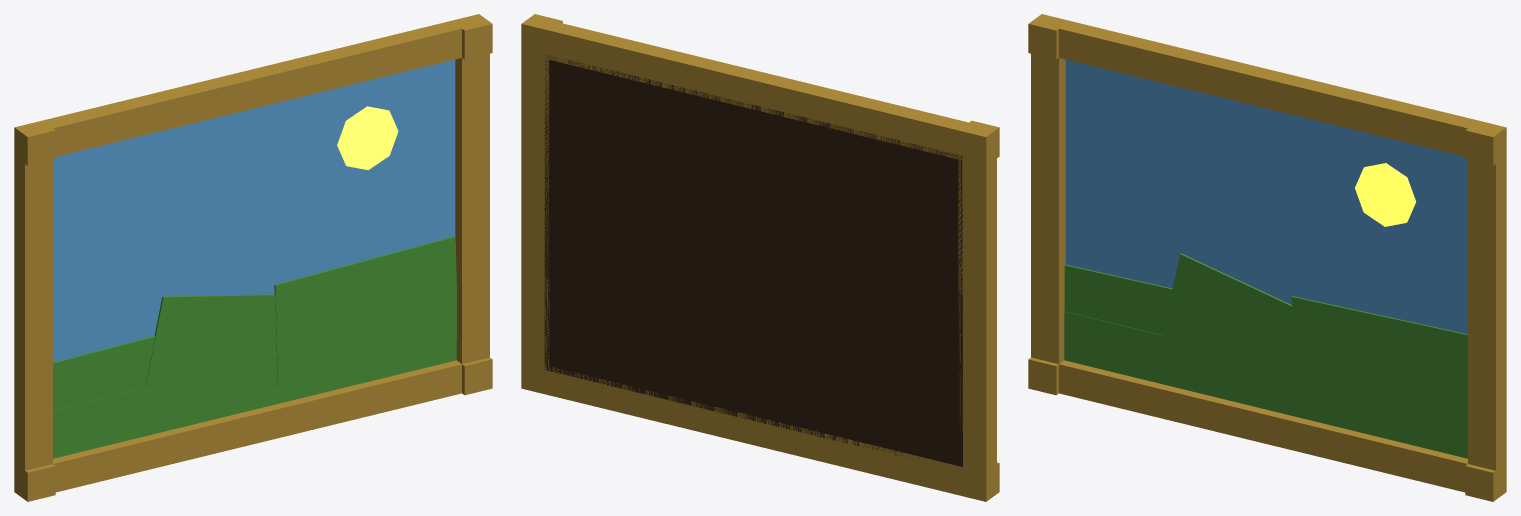
The model's file is Prop_Gal_LivingFrame_Restored_LOD1.glb.
3 renders of one model, left to right at view 1: azimuth 30°, elevation 25°; view 2: azimuth 150°, elevation 25°; view 3: azimuth 330°, elevation 25°, orthographic.
Parts seen in each view (by area): view 1: Prop_Gal_LivingFrame_Restored_Canvas, Prop_Gal_LivingFrame_Restored; view 2: Prop_Gal_LivingFrame_Restored; view 3: Prop_Gal_LivingFrame_Restored_Canvas, Prop_Gal_LivingFrame_Restored.
Boxes of the visible parts, x1,y1,x2,y2 form: Prop_Gal_LivingFrame_Restored_Canvas: (53, 59, 456, 458); Prop_Gal_LivingFrame_Restored: (14, 14, 492, 501); Prop_Gal_LivingFrame_Restored: (521, 14, 999, 501); Prop_Gal_LivingFrame_Restored_Canvas: (1064, 59, 1467, 458); Prop_Gal_LivingFrame_Restored: (1028, 14, 1506, 501).
Bounding box in the file's own units: 2 × 1.5 × 0.1.
